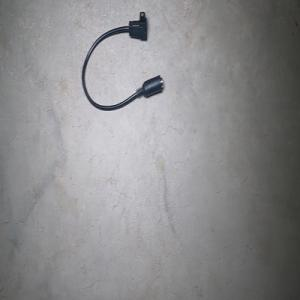Wire: (81, 11, 163, 111)
